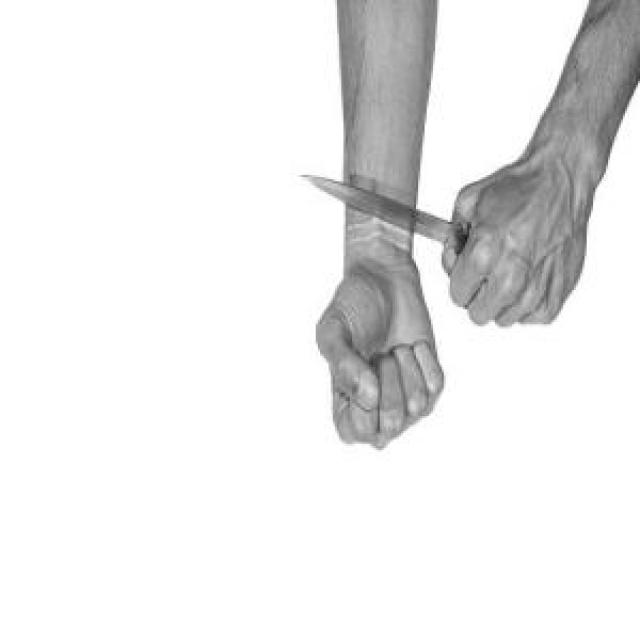knife: (296, 166, 477, 255)
